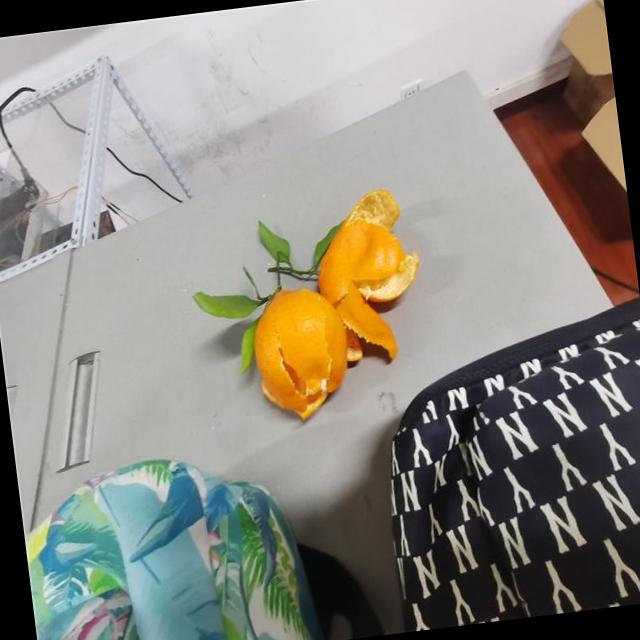orange-peel: (233, 184, 436, 425), (245, 281, 355, 424)
